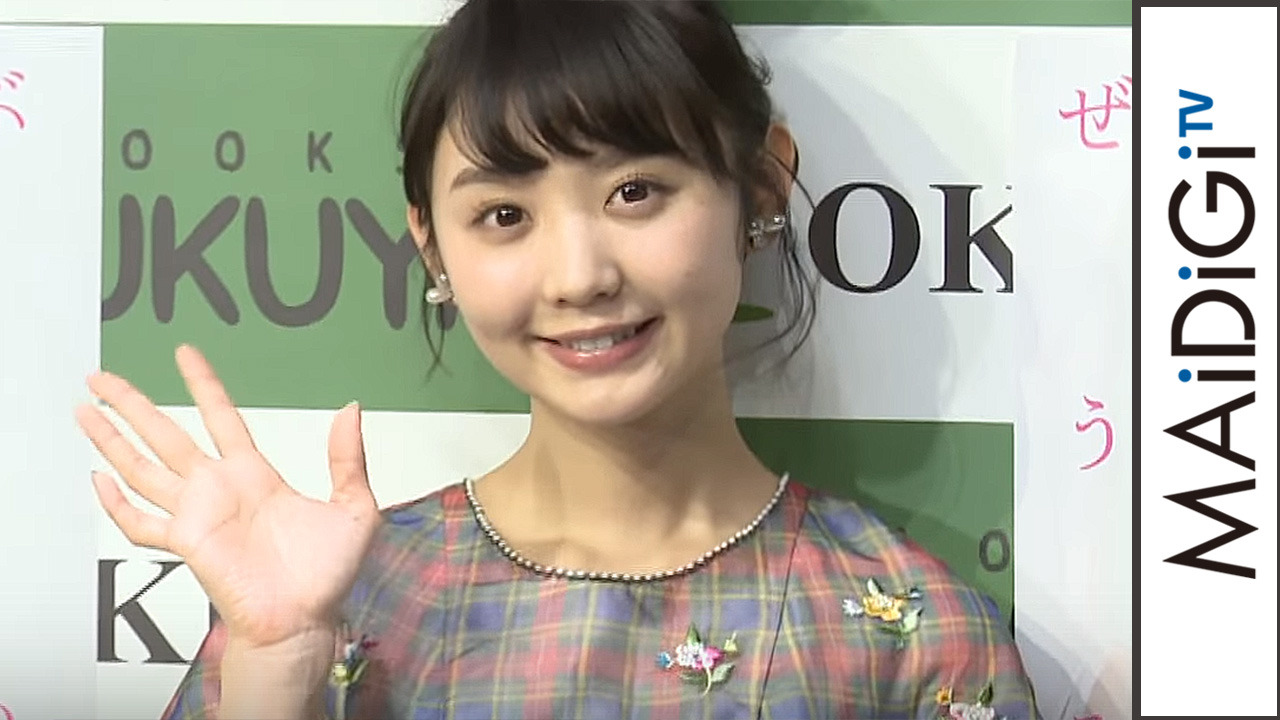face: (433, 85, 749, 422)
hand: (76, 343, 379, 637)
